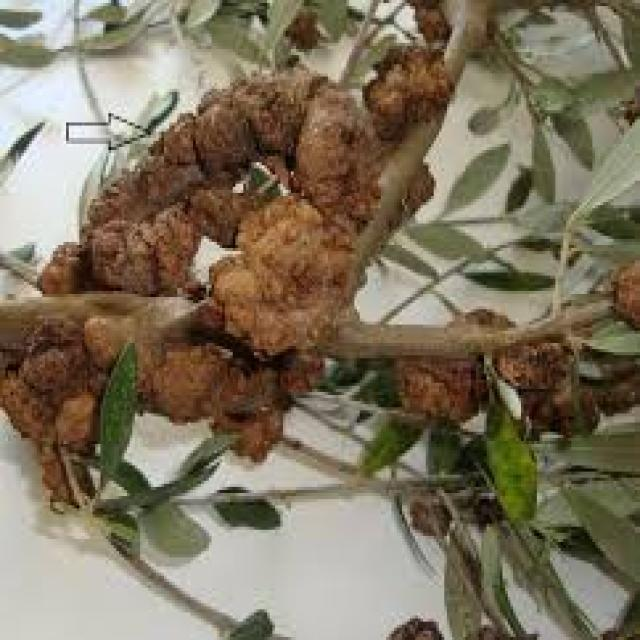Tuberculosis: (0, 43, 450, 496), (494, 334, 638, 428), (405, 356, 484, 420)
